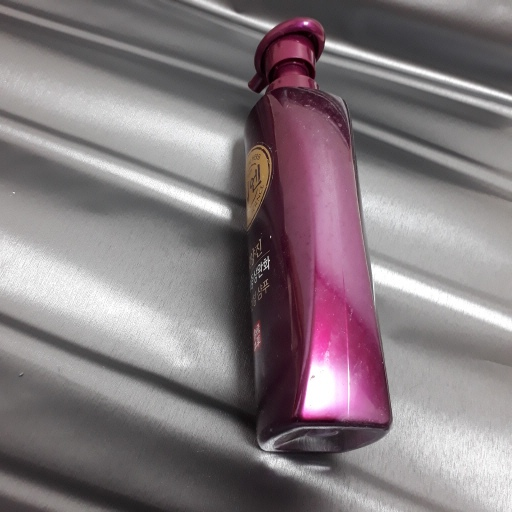Plastic_3: (240, 13, 393, 462)
